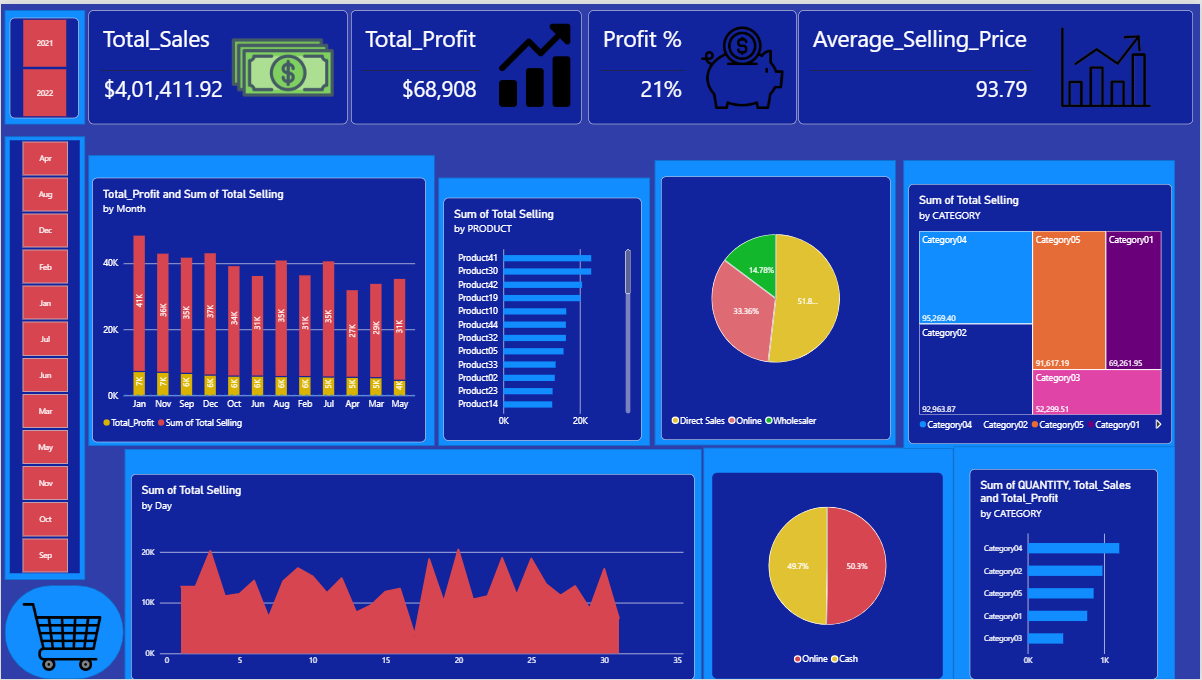

The page's visual inventory and layout, read from the dashboard file:
{"tool":"powerbi","page":{"name":"Page 1","canvas":[1920,1080],"ordinal":0},"visuals":[{"type":"shape","box":[5.4,10.9,128.5,182.8],"z":0},{"type":"slicer","fields":{"Values":["InputData.Year"]},"box":[14.5,21.7,110.4,161.1],"z":1000},{"type":"shape","box":[5.4,211.7,128.5,709.4],"z":2000},{"type":"slicer","fields":{"Values":["InputData.Month"]},"box":[14.5,219,112.2,693.1],"z":3000},{"type":"shape","box":[5.4,930.2,190,150.2],"z":4000},{"type":"image","box":[0,946.5,195.4,133.9],"z":5000},{"type":"tableEx","fields":{"Values":["InputData.Total_Sales"]},"box":[139.3,10.9,414.4,182.8],"z":6000},{"type":"image","box":[325.7,19.9,249.7,162.9],"z":7000},{"type":"tableEx","fields":{"Values":["InputData.Total_Profit"]},"box":[561,10.9,369.2,182.8],"z":8000},{"type":"image","box":[761.9,21.7,184.6,152],"z":9000},{"type":"tableEx","fields":{"Values":["InputData.Profit %"]},"box":[939.2,10.9,333,182.8],"z":10000},{"type":"image","box":[1080.4,36.2,211.7,132.1],"z":11000},{"type":"shape","box":[139.3,242.5,553.8,465.1],"z":12000},{"type":"columnChart","fields":{"Category":["InputData.Month"],"Y":["InputData.Total_Profit","Sum(InputData.Total Selling)"]},"box":[146.6,278.7,533.8,423.5],"z":13000},{"type":"shape","box":[700.3,278.7,338.4,428.9],"z":14000},{"type":"barChart","fields":{"Y":["Sum(InputData.Total Selling)"],"Category":["InputData.PRODUCT"]},"box":[707.6,309.5,316.7,389.1],"z":15000},{"type":"shape","box":[1046,249.7,385.5,456],"z":16000},{"type":"pieChart","fields":{"Category":["InputData.SALE TYPE"],"Y":["Sum(InputData.Total Selling)"]},"box":[1055,276.9,367.4,421.7],"z":17000},{"type":"shape","box":[197.3,711.2,922.9,369.2],"z":18000},{"type":"areaChart","fields":{"Category":["InputData.Day"],"Y":["Sum(InputData.Total Selling)"]},"box":[208.1,751,901.2,329.4],"z":19000},{"type":"shape","box":[1123.8,709.4,399.9,371],"z":20000},{"type":"pieChart","fields":{"Category":["InputData.PAYMENT MODE"],"Y":["Sum(InputData.Total Selling)"]},"box":[1138.3,750.6,369.2,329.4],"z":21000},{"type":"shape","box":[1444.1,249.7,434.3,461.5],"z":22000},{"type":"treemap","fields":{"Group":["InputData.CATEGORY"],"Values":["Sum(InputData.Total Selling)"]},"box":[1451.3,287.7,421.7,416.2],"z":23000},{"type":"tableEx","fields":{"Values":["InputData.Average_Selling_Price"]},"box":[1275.8,10.9,631.6,182.8],"z":24000},{"type":"image","box":[1616,10.9,304,182.8],"z":25000},{"type":"shape","box":[1523.7,707.6,354.7,372.8],"z":26000},{"type":"clusteredBarChart","fields":{"Category":["InputData.CATEGORY"],"Y":["Sum(InputData.QUANTITY)"]},"box":[1550.9,743.8,300.4,336.6],"z":27000}]}

Visuals, with their boxes in screenshot pixels (x1, y1, x2, y2), scaled from the page's 1920x1080 canvas onto the 1202x680 screenshot:
shape: l=3, t=7, r=84, b=122
slicer - InputData.Year: l=9, t=14, r=78, b=115
shape: l=3, t=133, r=84, b=580
slicer - InputData.Month: l=9, t=138, r=79, b=574
shape: l=3, t=586, r=122, b=679
image: l=0, t=596, r=122, b=679
tableEx - InputData.Total_Sales: l=87, t=7, r=347, b=122
image: l=204, t=13, r=360, b=115
tableEx - InputData.Total_Profit: l=351, t=7, r=582, b=122
image: l=477, t=14, r=593, b=109
tableEx - InputData.Profit %: l=588, t=7, r=796, b=122
image: l=676, t=23, r=809, b=106
shape: l=87, t=153, r=434, b=446
columnChart - InputData.Month x InputData.Total_Profit: l=92, t=175, r=426, b=442
shape: l=438, t=175, r=650, b=446
barChart - Sum(InputData.Total Selling) x InputData.PRODUCT: l=443, t=195, r=641, b=440
shape: l=655, t=157, r=896, b=444
pieChart - InputData.SALE TYPE x Sum(InputData.Total Selling): l=660, t=174, r=890, b=440
shape: l=124, t=448, r=701, b=679
areaChart - InputData.Day x Sum(InputData.Total Selling): l=130, t=473, r=694, b=679
shape: l=704, t=447, r=954, b=679
pieChart - InputData.PAYMENT MODE x Sum(InputData.Total Selling): l=713, t=473, r=944, b=679
shape: l=904, t=157, r=1176, b=448
treemap - InputData.CATEGORY x Sum(InputData.Total Selling): l=909, t=181, r=1173, b=443
tableEx - InputData.Average_Selling_Price: l=799, t=7, r=1194, b=122
image: l=1012, t=7, r=1201, b=122
shape: l=954, t=446, r=1176, b=679
clusteredBarChart - InputData.CATEGORY x Sum(InputData.QUANTITY): l=971, t=468, r=1159, b=679
